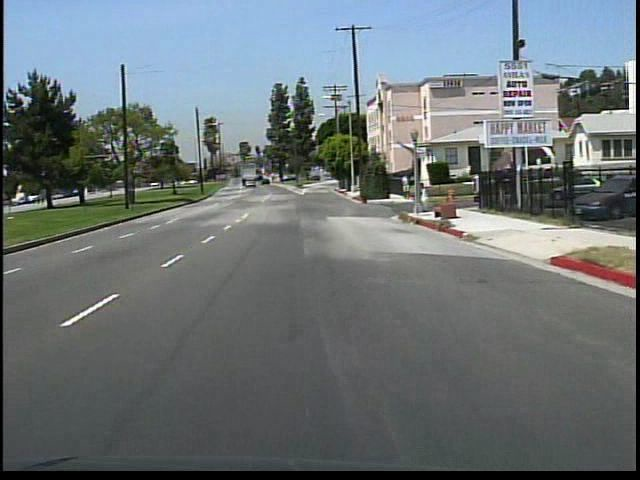person: (414, 179, 428, 216), (399, 174, 411, 199)
